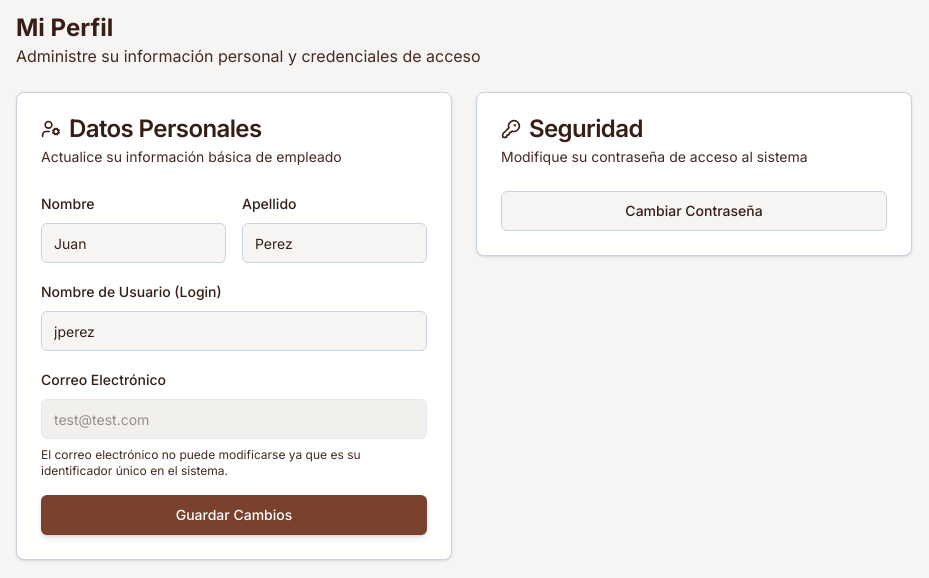
Perfil › muestra formulario de cambiar contraseña al hacer clic
Step 1. Click the button "Cambiar Contraseña" → (694, 211), box x1=501 y1=191 x2=887 y2=231
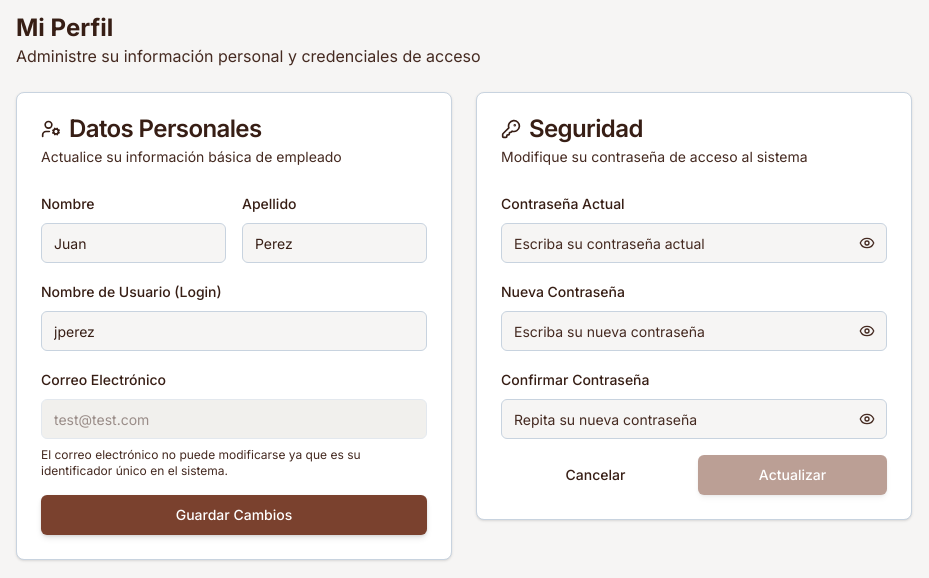
Result: the password field with placeholder "Escriba su contraseña actual" is shown at x1=501 y1=223 x2=887 y2=263
Result: the password field with placeholder "Escriba su nueva contraseña" is shown at x1=501 y1=311 x2=887 y2=351
Result: the password field with placeholder "Repita su nueva contraseña" is shown at x1=501 y1=399 x2=887 y2=439
